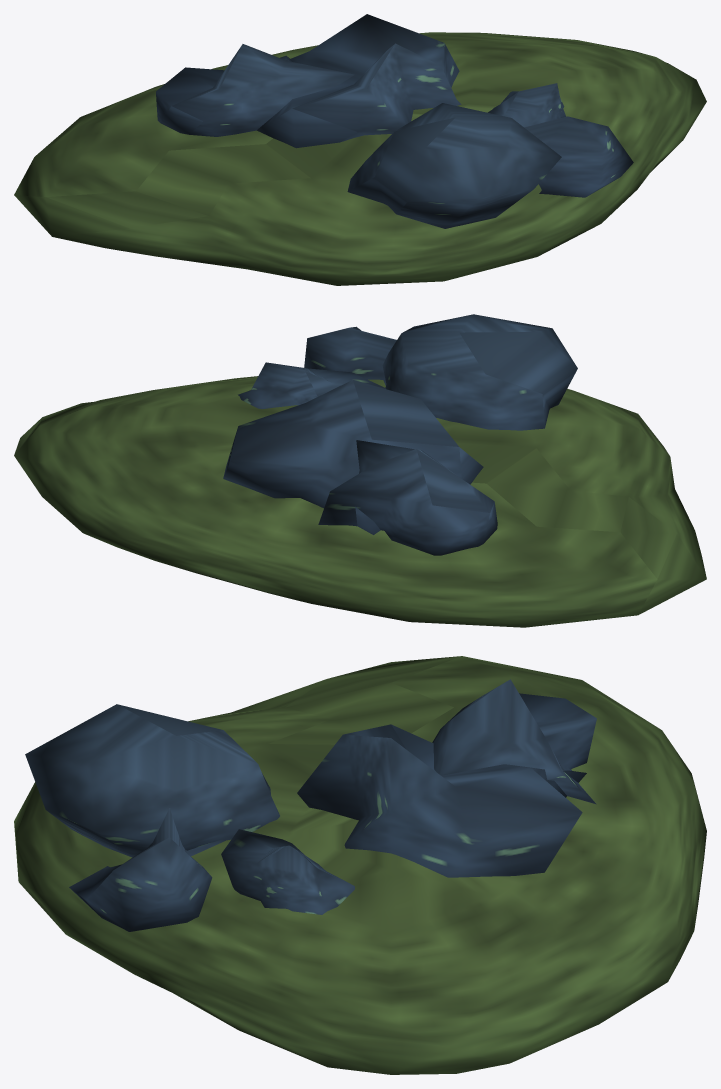
Rendered from vivianite.glb.
3 views of the same model, one above another, from view 1: azimuth 30°, elevation 25°; view 2: azimuth 150°, elevation 25°; view 3: azimuth 270°, elevation 25° (orthographic). The views are drawn at different scales.
Parts seen in each view (by area): view 1: vivianite; view 2: vivianite; view 3: vivianite.
Part boxes in pixels (x1,y1,x2,y2): vivianite: (14,14,706,285); vivianite: (14,314,706,627); vivianite: (14,656,706,1074).
Bounding box in the file's own units: 0.4557 × 0.0747 × 0.3233.
1 material, 1 textured.
